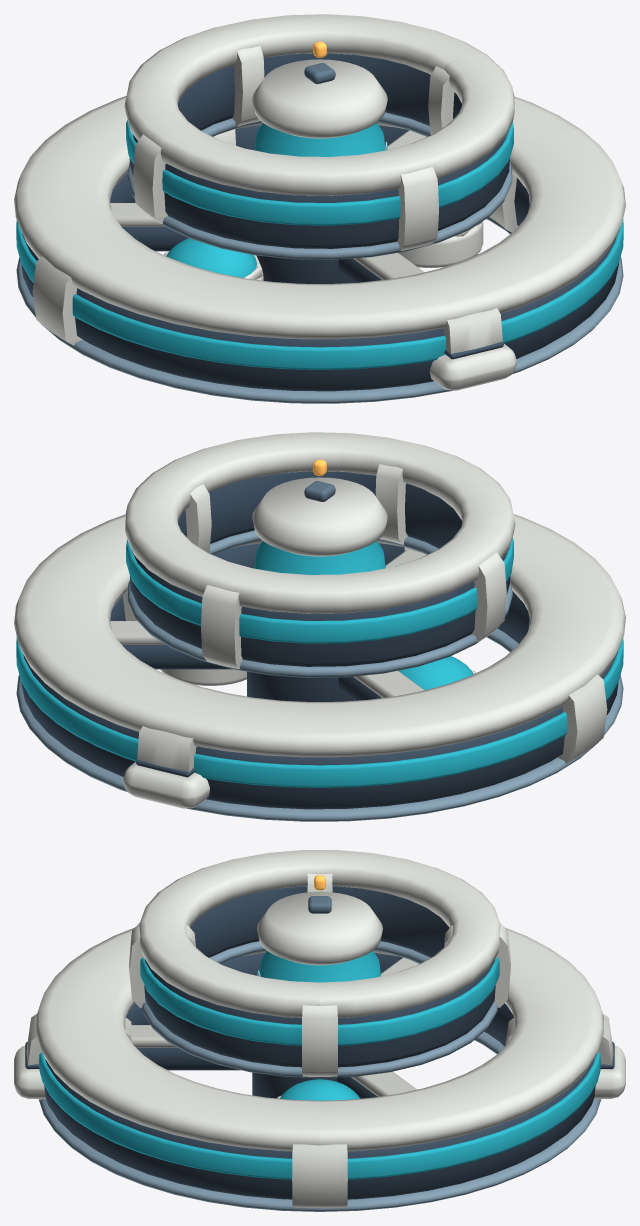
Rendered from colony_ring_lv4.glb.
3 renders of one model, top to bottom at view 1: azimuth 30°, elevation 25°; view 2: azimuth 150°, elevation 25°; view 3: azimuth 270°, elevation 25°, orthographic. The views are drawn at different scales.
Visible parts, largest first — view 1: Structure; view 2: Structure; view 3: Structure.
Part boxes in pixels (bbox=[...]): Structure: bbox=[14, 14, 625, 403]; Structure: bbox=[14, 432, 625, 821]; Structure: bbox=[14, 850, 625, 1211].
Size of the model in its own units: 8.96 by 4.02 by 9.34.
